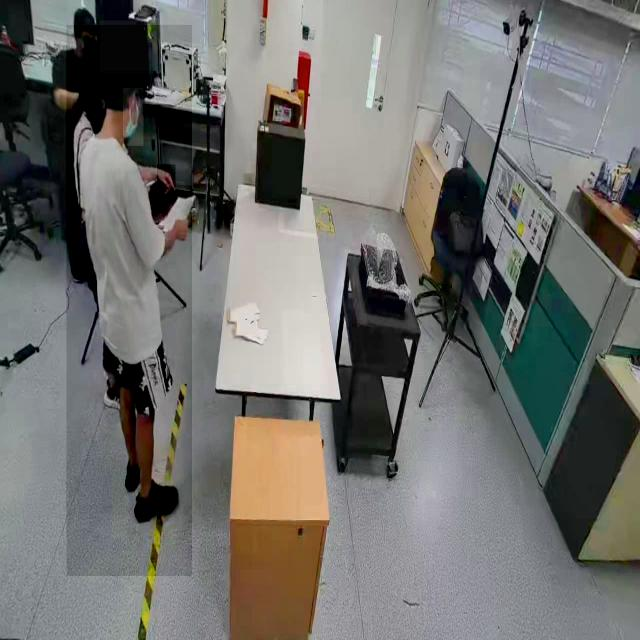face_mask: (123, 88, 143, 146)
hand_noglove: (172, 210, 190, 246), (157, 164, 176, 196)
head_nohelmet: (100, 20, 152, 74), (72, 4, 96, 26)
person: (66, 25, 192, 577)
shoes: (133, 476, 184, 528)
